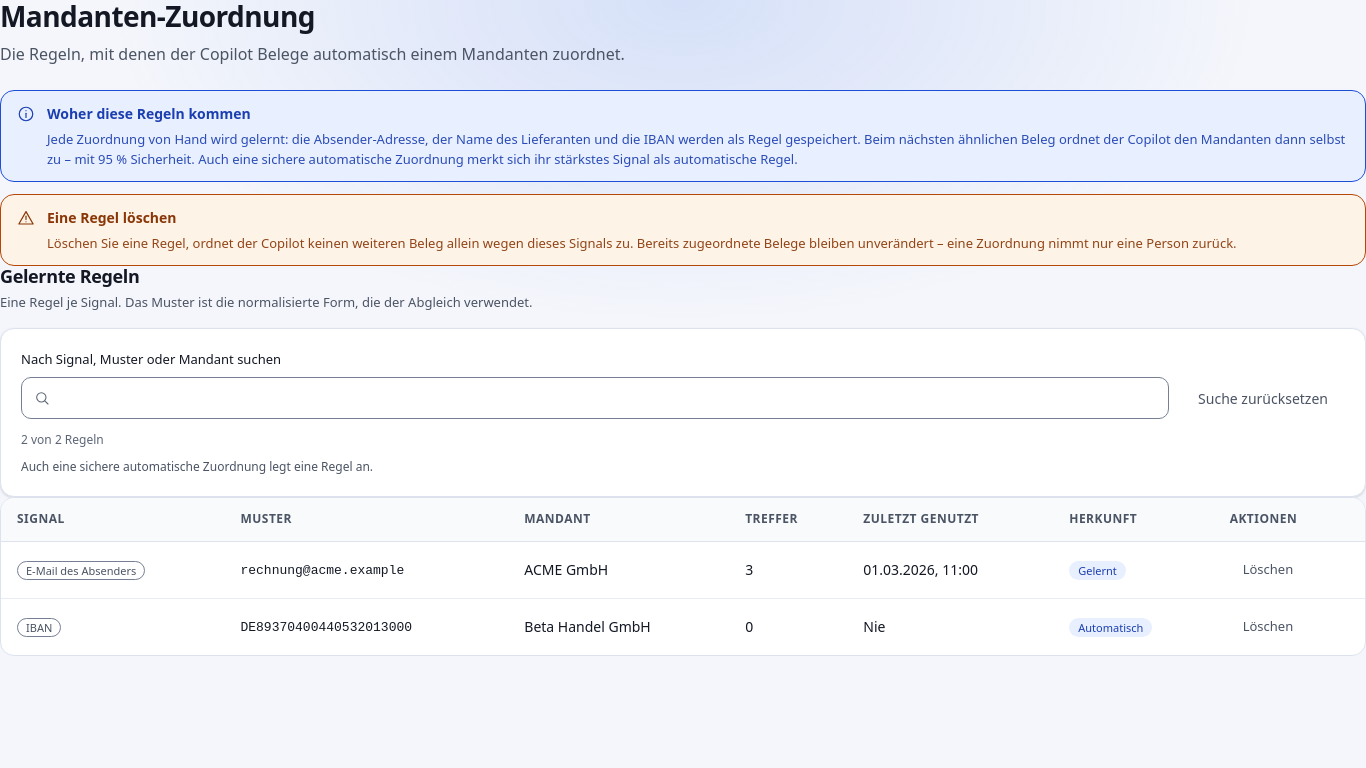
MandantRulesPage › deletes one rule after confirmation and stops showing it
Expected: the text "rechnung@acme.example" is shown, [240, 563, 404, 578]
Click the button "Löschen" in the row of "E-Mail des Absenders" at (1268, 570), box [1230, 554, 1306, 586]
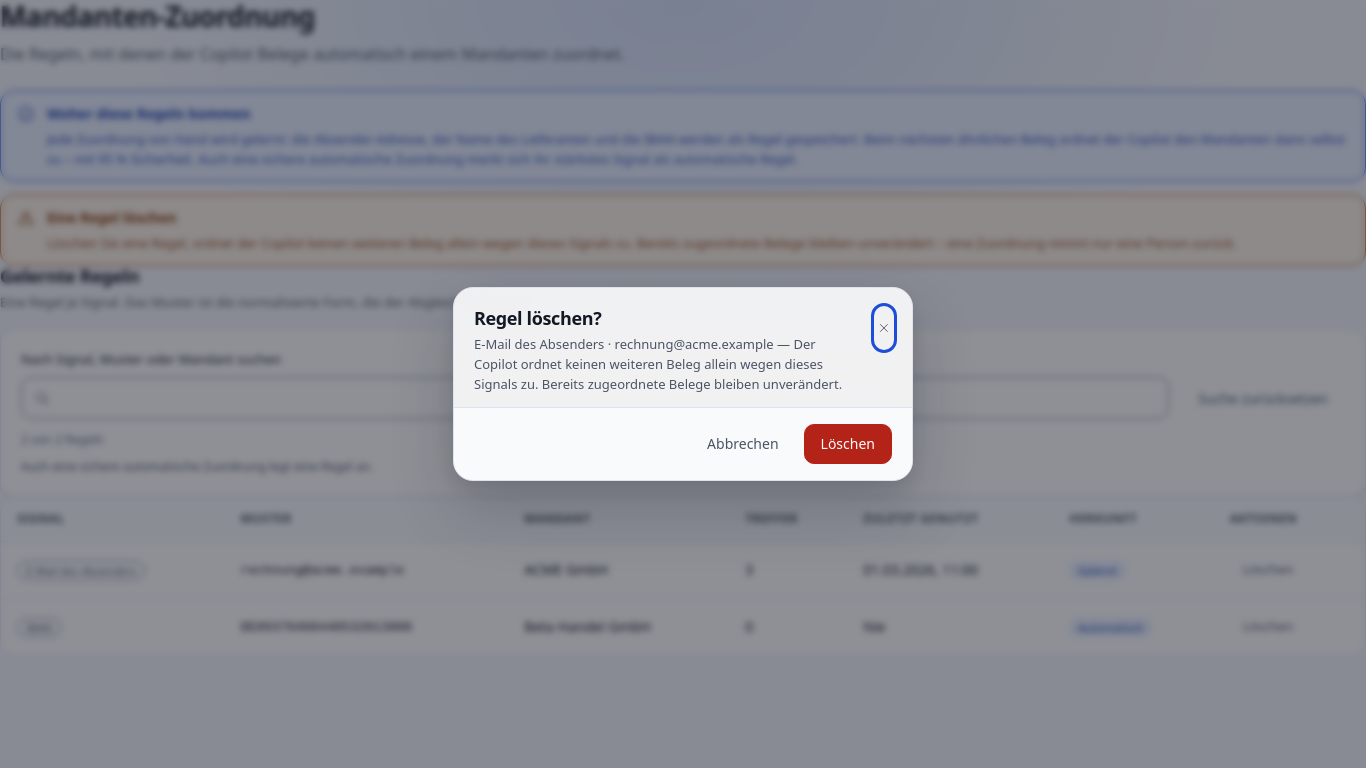
Now the heading "Regel löschen?" is shown, box [474, 306, 601, 330]
Now the text "E-Mail des Absenders" is shown, box [474, 335, 842, 393]
Click the button "Löschen" at (848, 444), box [804, 424, 892, 464]
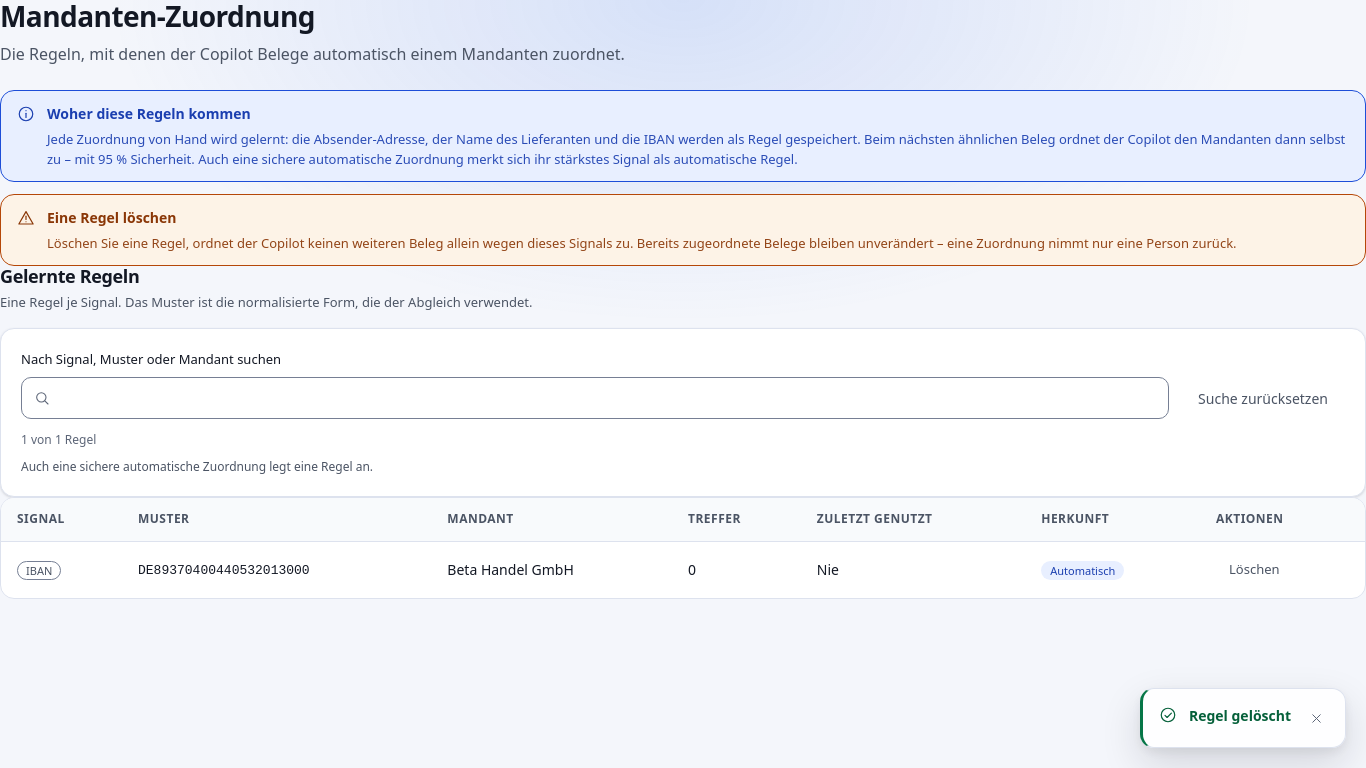
Now the text "Regel gelöscht" is shown, box [1189, 705, 1291, 727]
Now the text "rechnung@acme.example" is gone
Now the text "1 von 1 Regel" is shown, box [21, 431, 96, 448]
